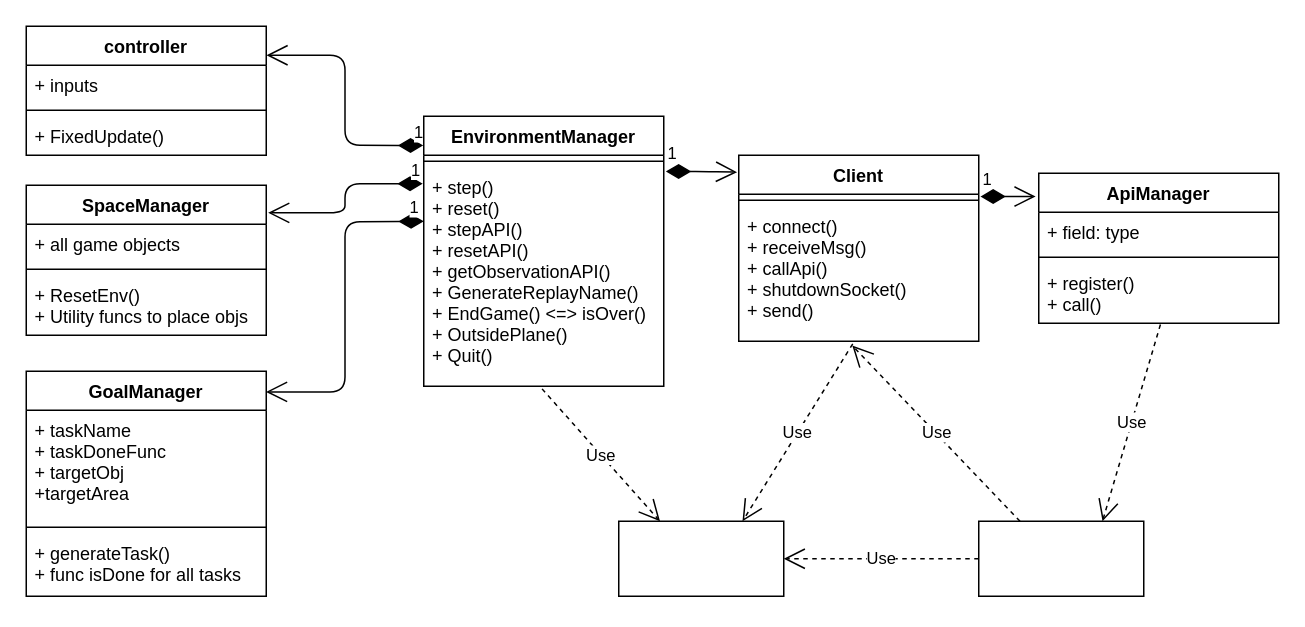
The diagram is 1305 pixels wide and 627 high, and some of its shapes have lost their labels. Here are the shapes that lost their labels. From the top down, the centre of each, then its label:
At (x=700, y=558): "APIMessages".
At (x=1060, y=558): "Various APIs in their own class".
